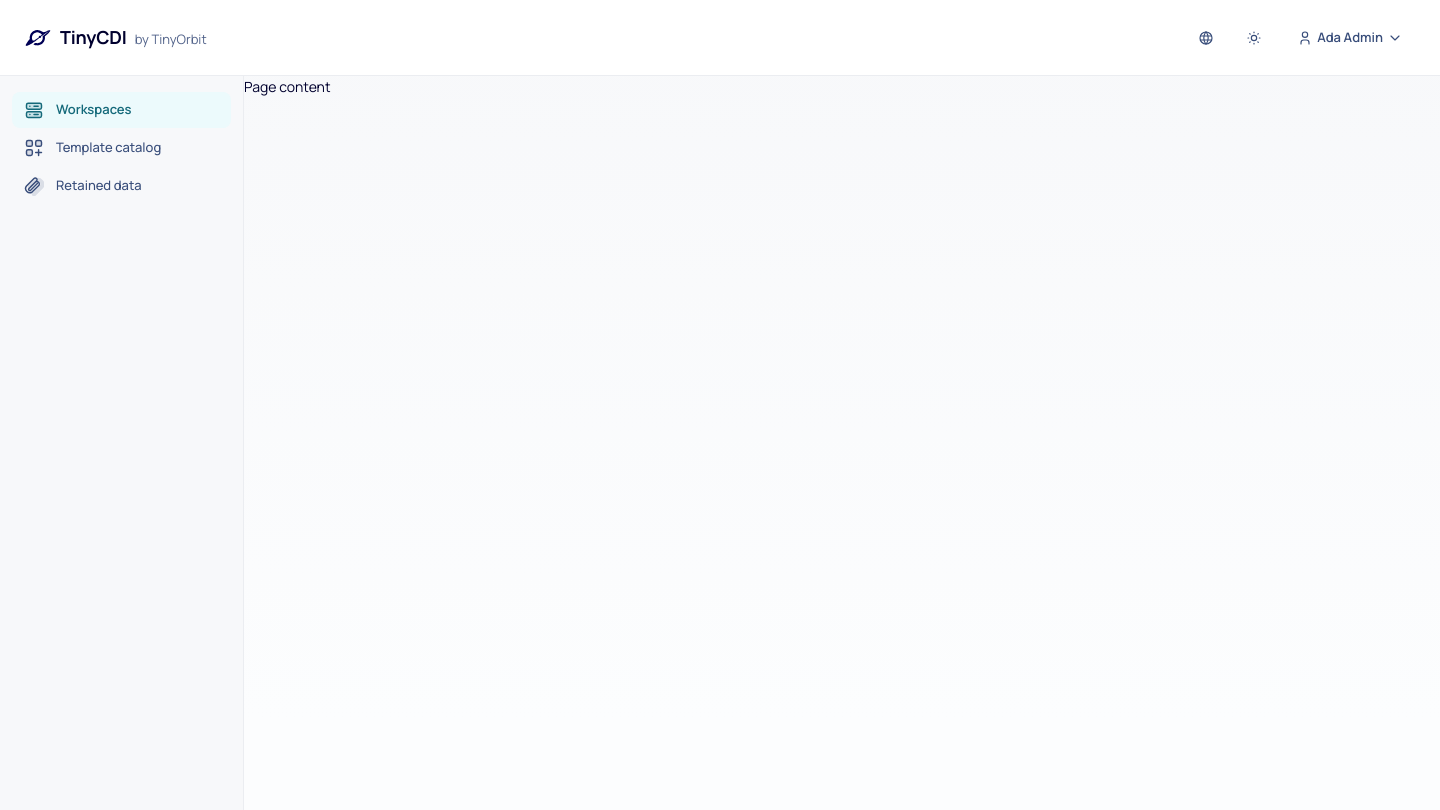
Scenario: user menu › is a labelled menu button on the account name
Click the button "Ada Admin": (1350, 38) [1284,20,1416,56]
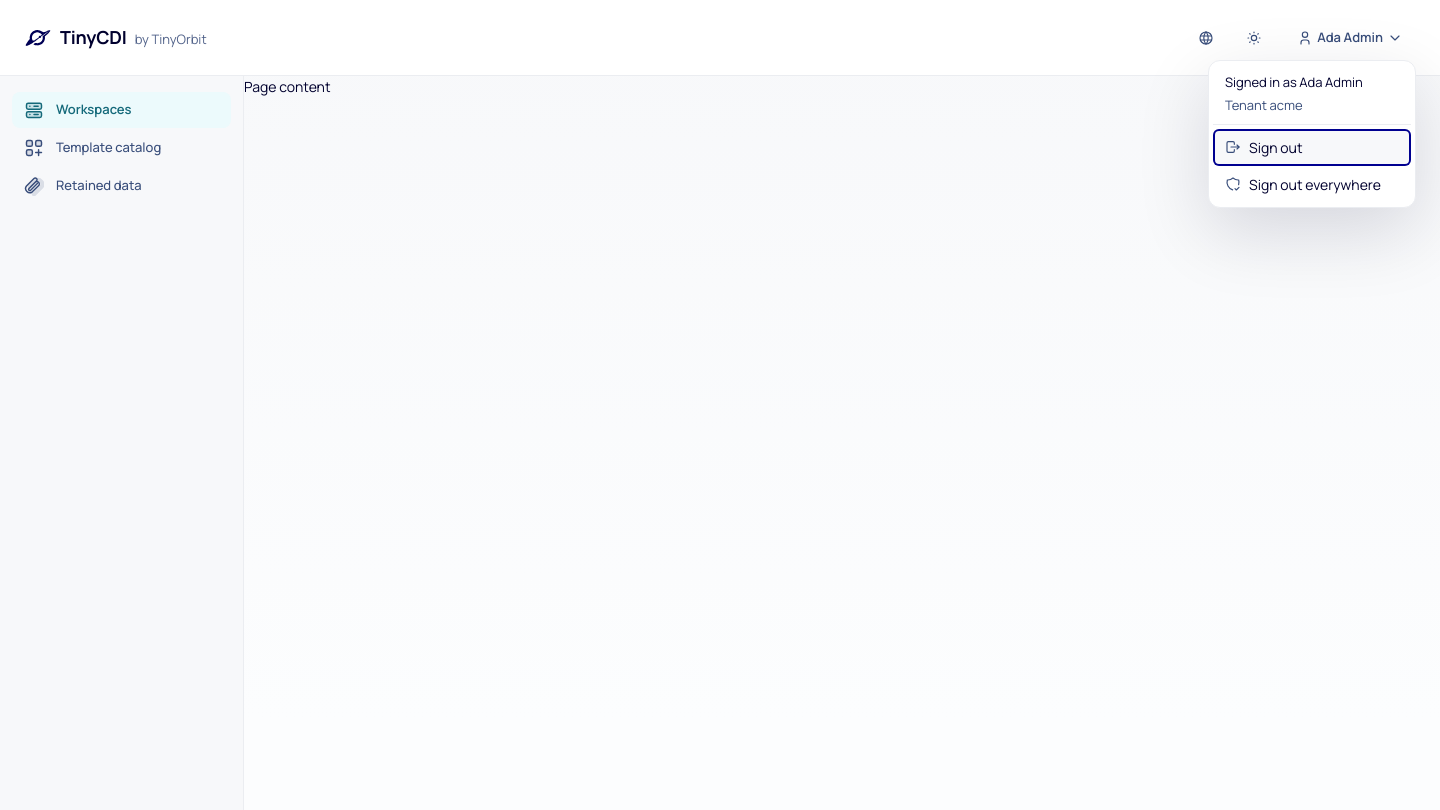
Expected: the menu named "Account menu for Ada Admin" shows "Signed in as Ada Admin", [1225,72,1363,90]
Expected: the menu named "Account menu for Ada Admin" shows "Tenant acme", [1225,96,1303,114]
Expected: the menu item "Sign out" is shown, [1213,128,1411,166]
